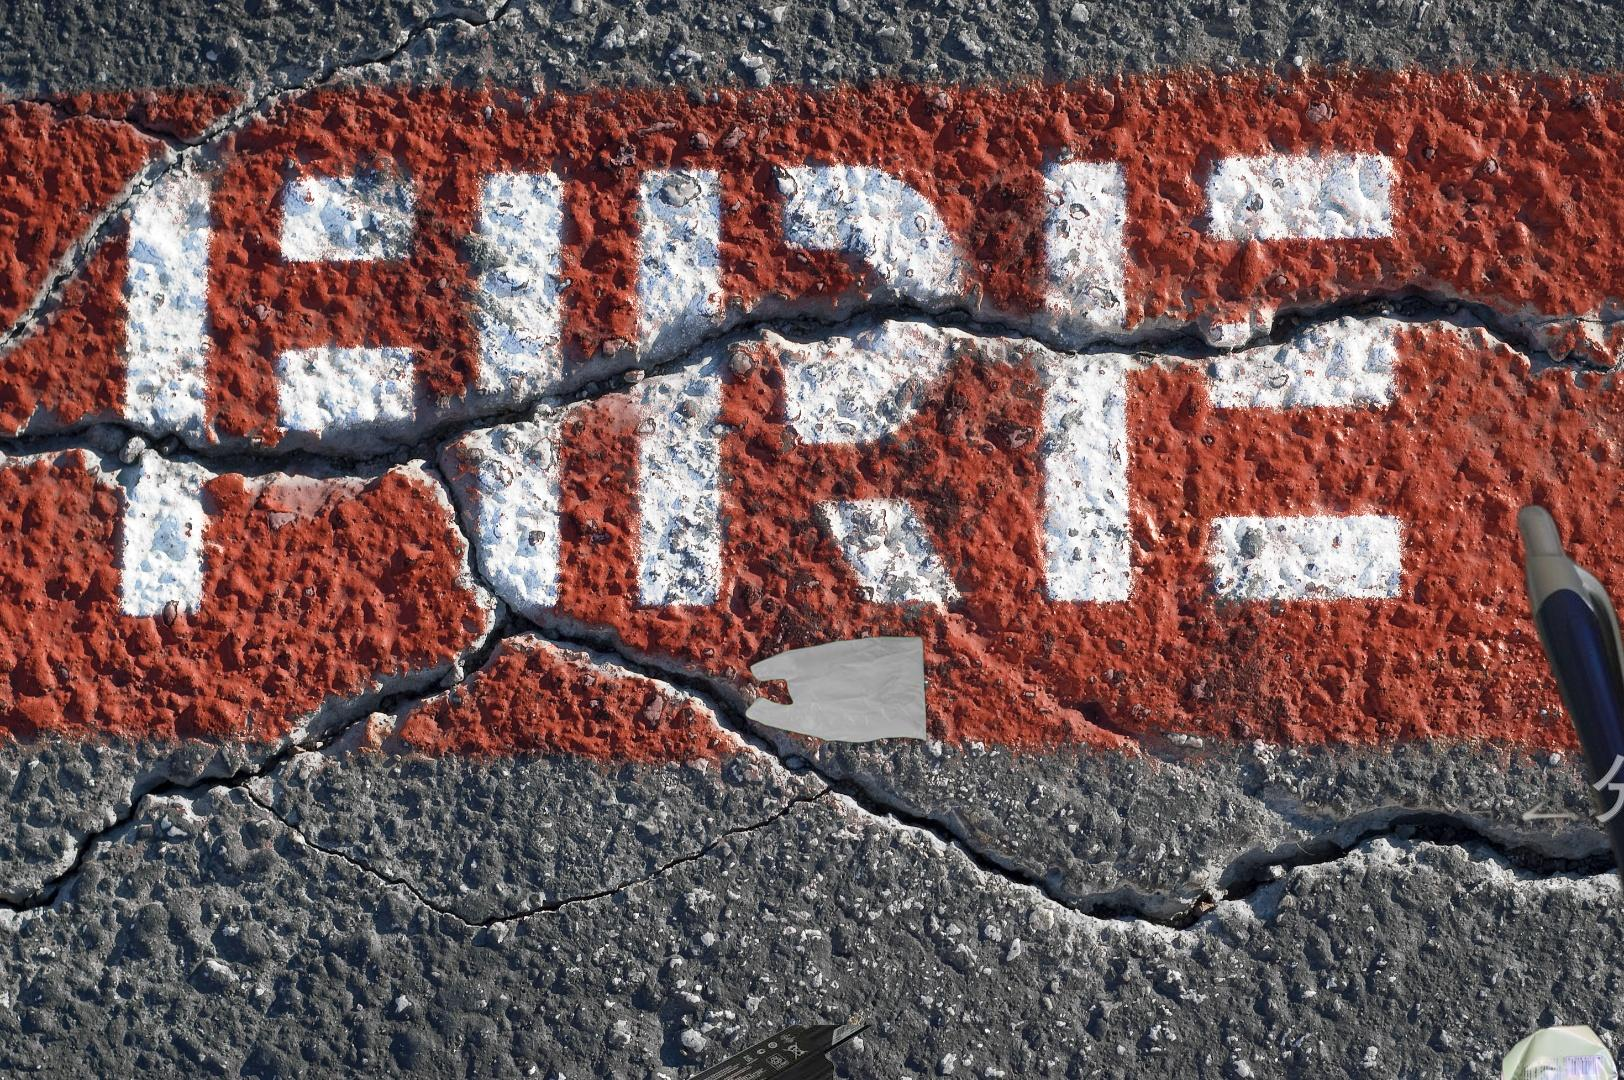battery: (617, 1025, 875, 1080)
metal-cans: (1496, 1019, 1623, 1080)
penholder: (1508, 468, 1624, 1080)
plastic-bag: (743, 633, 929, 746)
